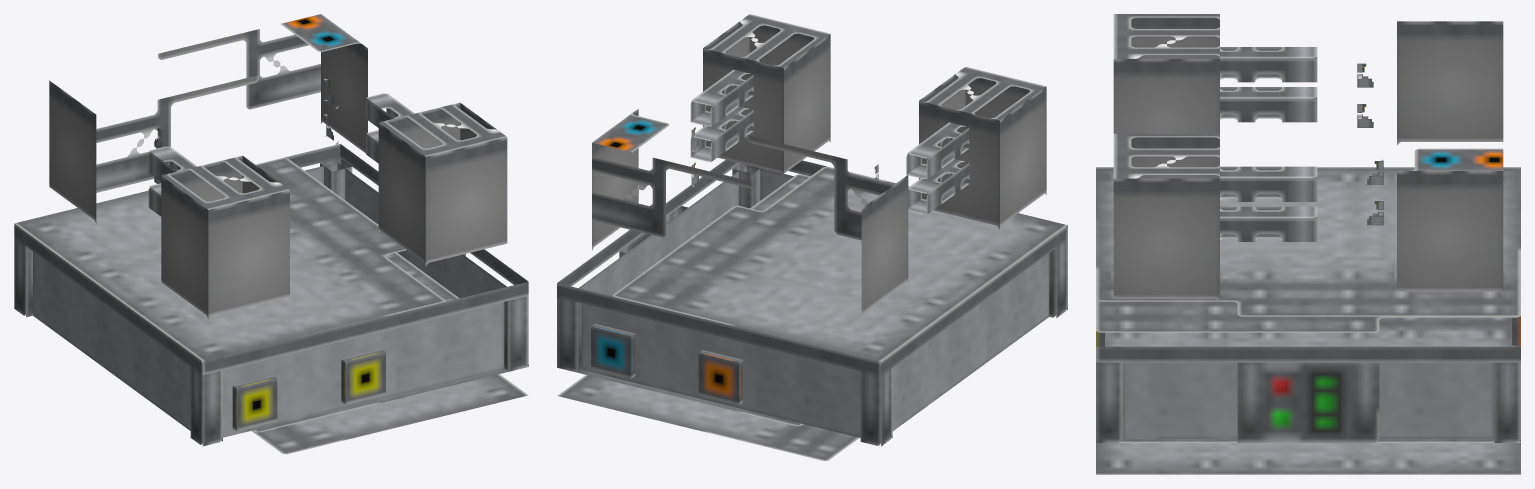
The model's file is precisionlaseretcher.obj.
The picture shows the model from 3 angles, left to right: view 1: azimuth 30°, elevation 25°; view 2: azimuth 150°, elevation 25°; view 3: azimuth 270°, elevation 25°; orthographic projection. The views are drawn at different scales.
Parts seen in each view (by area): view 1: Hull; view 2: Hull; view 3: Hull, Mount.
Boxes of the visible parts, x1,y1,x2,y2 form: Hull: (14, 14, 528, 454); Hull: (557, 14, 1067, 460); Hull: (1096, 14, 1520, 474); Mount: (1357, 63, 1383, 225).
Size of the model in its own units: 3 by 2.25 by 3.
